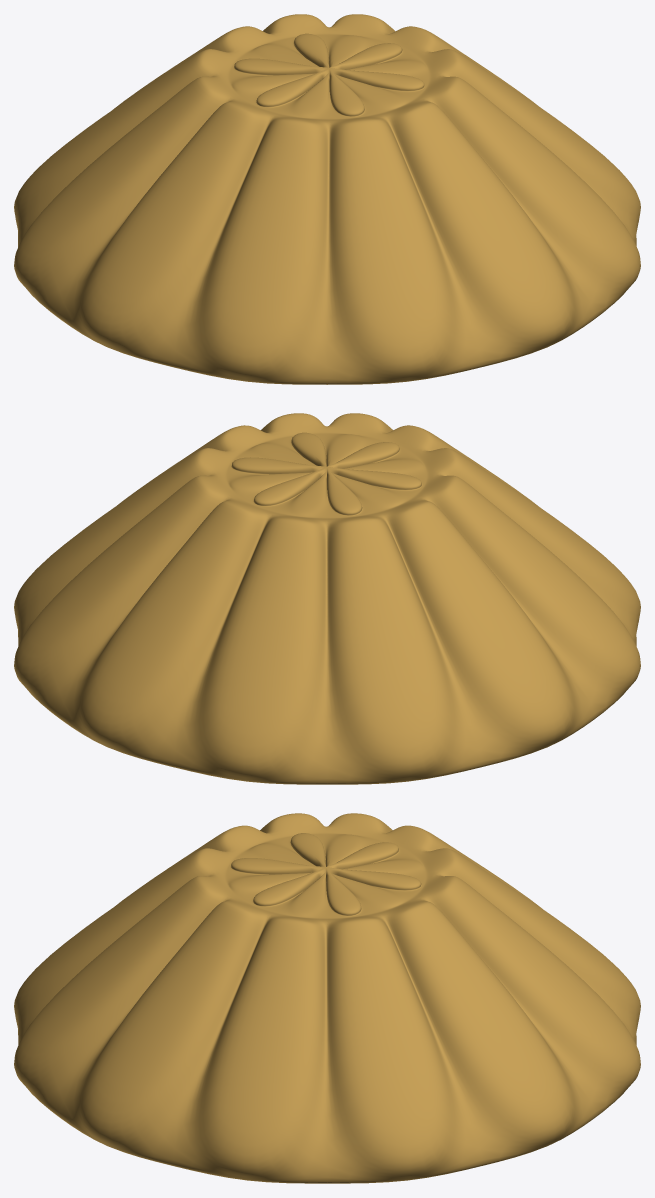
File: kuihbahulu.fbx
The picture shows the model from 3 angles, top to bottom: view 1: azimuth 30°, elevation 25°; view 2: azimuth 150°, elevation 25°; view 3: azimuth 270°, elevation 25°; orthographic projection.
Visible parts, largest first — view 1: Cylinder; view 2: Cylinder; view 3: Cylinder.
Part boxes in pixels (x1,y1,x2,y2): Cylinder: (14,14,640,384); Cylinder: (14,413,640,784); Cylinder: (14,813,640,1183).
Size of the model in its own units: 257 by 85.64 by 257.
